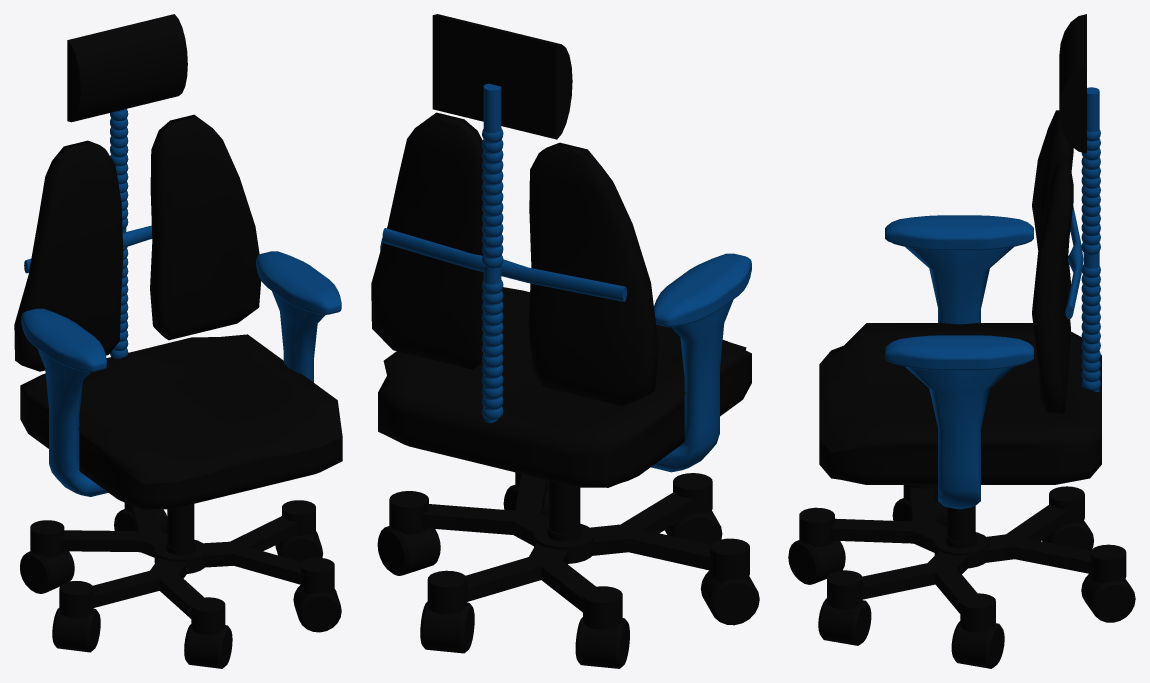
The model's file is chair.fbx.
The picture shows the model from 3 angles, left to right: view 1: azimuth 30°, elevation 25°; view 2: azimuth 150°, elevation 25°; view 3: azimuth 270°, elevation 25°; orthographic projection. The views are drawn at different scales.
Parts seen in each view (by area): view 1: pCube16; view 2: pCube16; view 3: pCube16.
Boxes of the visible parts, x1=… form: pCube16: x1=14, y1=14, x2=342, y2=668; pCube16: x1=371, y1=14, x2=759, y2=668; pCube16: x1=788, y1=14, x2=1135, y2=668.
Bounding box in the file's own units: 515 × 885 × 499.
